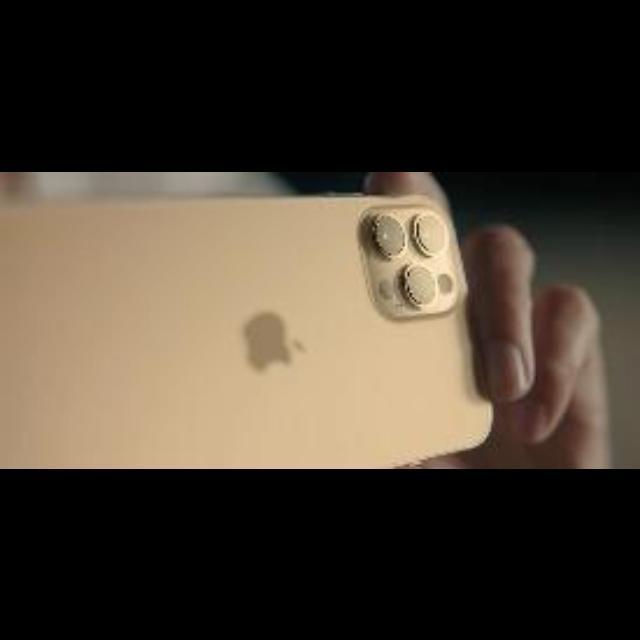phone: (0, 192, 510, 468)
